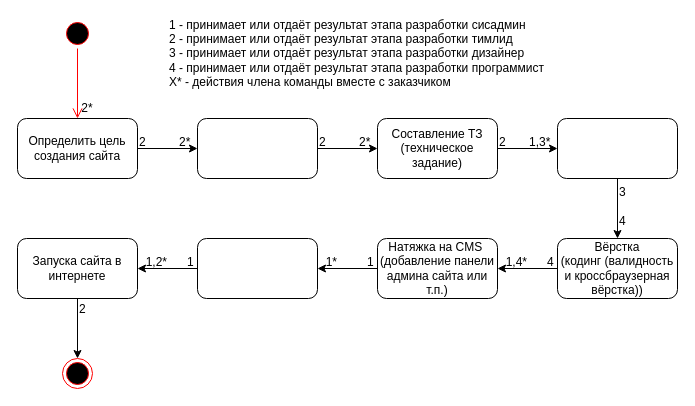
This 695x406 diagram has some shape labels left out. The shapes that lost their labels are listed below. From the top down, each one's centre as x and y in pixels, then its label:
(257,148): Проведение исследования (актуальность, конкуренты)
(617,148): Создание дизайн-макета сайта (то, что будет видеть пользователь)
(257,268): Наполнение сайта текстом, картинками и т.д.
